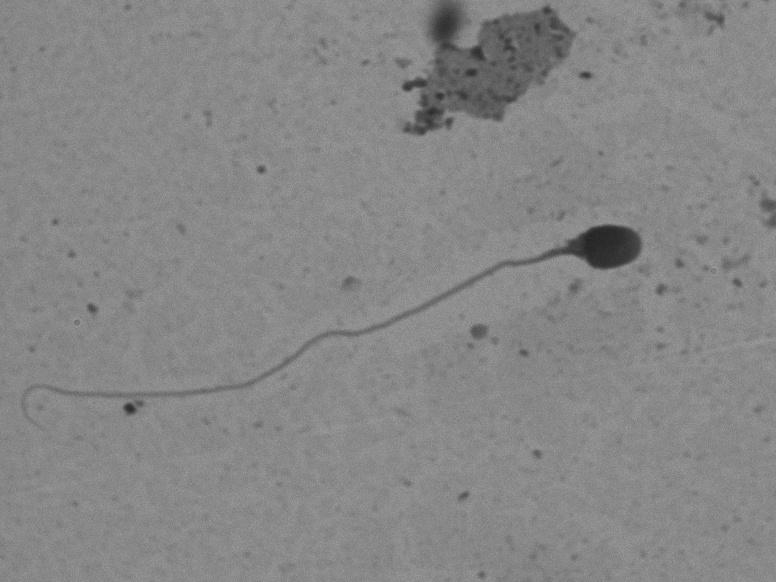Abnormal: (4, 196, 658, 471)
